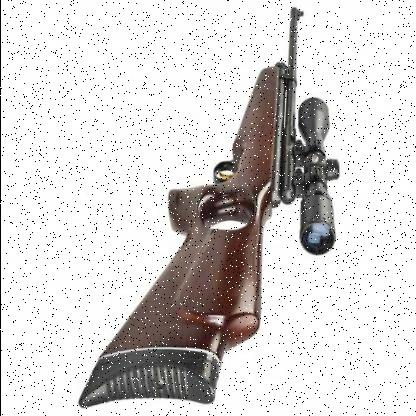rifle: (71, 22, 360, 415)
